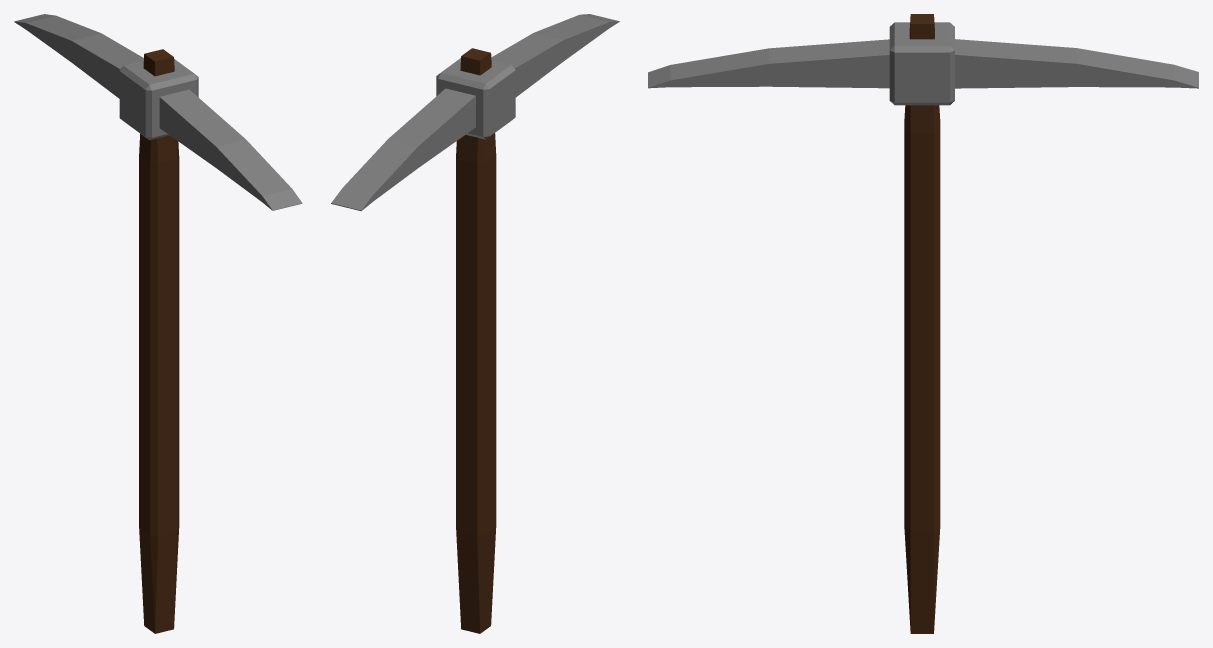
Rendered from pickaxe.fbx.
3 renders of one model, left to right at view 1: azimuth 30°, elevation 25°; view 2: azimuth 150°, elevation 25°; view 3: azimuth 270°, elevation 25°, orthographic. The views are drawn at different scales.
Visible parts, largest first — view 1: Cube, Cube.001; view 2: Cube, Cube.001; view 3: Cube.001, Cube.
Part boxes in pixels (left/top/right/bottom): Cube: left=139, top=49, right=179, bottom=633; Cube.001: left=14, top=14, right=302, bottom=210; Cube: left=456, top=48, right=496, bottom=633; Cube.001: left=331, top=14, right=619, bottom=211; Cube.001: left=648, top=22, right=1198, bottom=105; Cube: left=904, top=14, right=940, bottom=633.
Bounding box in the file's own units: 47.57 × 488 × 400.
